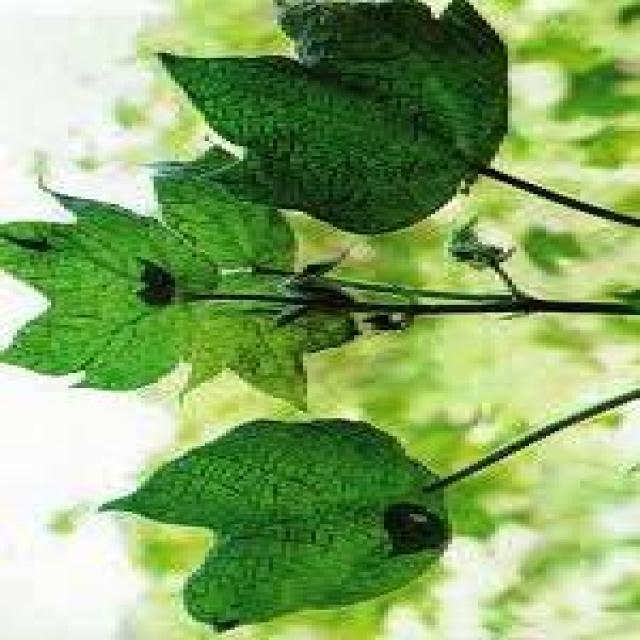Leaf Curl Virus: (112, 106, 522, 593)
